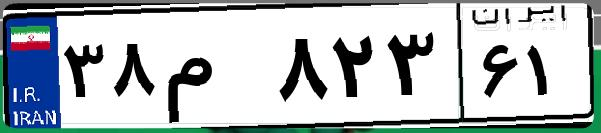1: (525, 38, 570, 115)
2: (330, 28, 385, 110)
3: (385, 28, 445, 110), (57, 26, 110, 100)
6: (475, 38, 525, 113)
8: (270, 28, 330, 110), (110, 28, 158, 98)
م: (158, 20, 270, 120)
